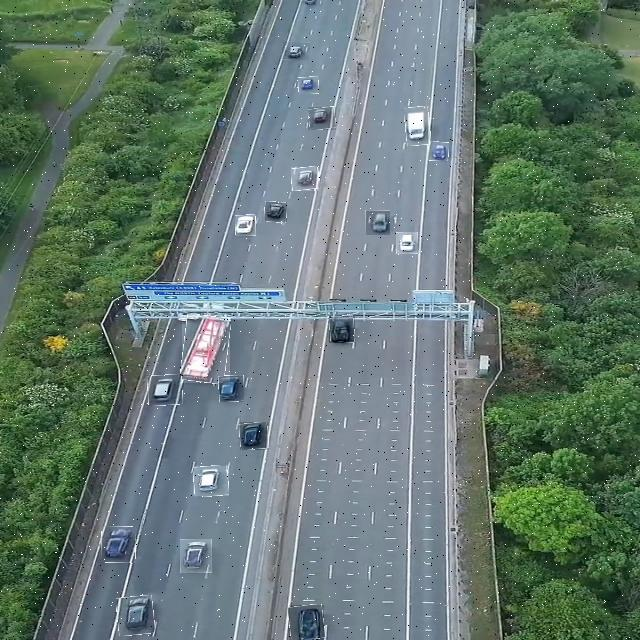Car: (118, 596, 154, 636), (289, 605, 324, 640), (102, 527, 136, 563), (148, 374, 182, 406), (180, 539, 212, 573), (193, 466, 229, 496), (240, 422, 268, 450), (329, 316, 355, 343), (292, 167, 320, 191), (219, 376, 244, 402), (308, 107, 336, 130), (365, 210, 390, 235), (282, 42, 310, 60), (396, 232, 418, 254), (265, 202, 287, 222), (236, 215, 256, 236), (428, 142, 449, 161), (299, 77, 319, 94)
Truck: (182, 315, 230, 383), (405, 106, 431, 146)
